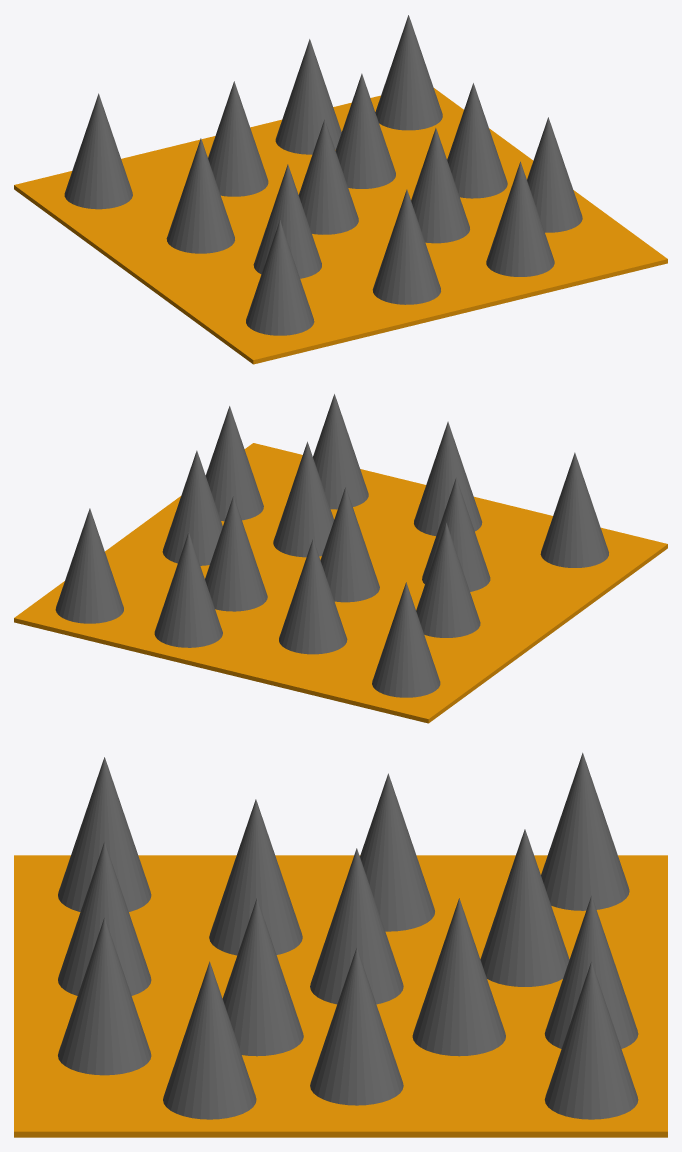
Rendered from PinchosPiso_1.dae.
The picture shows the model from 3 angles, top to bottom: view 1: azimuth 30°, elevation 25°; view 2: azimuth 150°, elevation 25°; view 3: azimuth 270°, elevation 25°; orthographic projection. The views are drawn at different scales.
Visible parts, largest first — view 1: pinchosPiso_1; view 2: pinchosPiso_1; view 3: pinchosPiso_1.
Part boxes in pixels (left/top/right/bottom): pinchosPiso_1: left=14, top=15, right=667, bottom=364; pinchosPiso_1: left=14, top=394, right=667, bottom=723; pinchosPiso_1: left=14, top=752, right=667, bottom=1137.
Bounding box in the file's own units: 1 × 1 × 0.2442.
